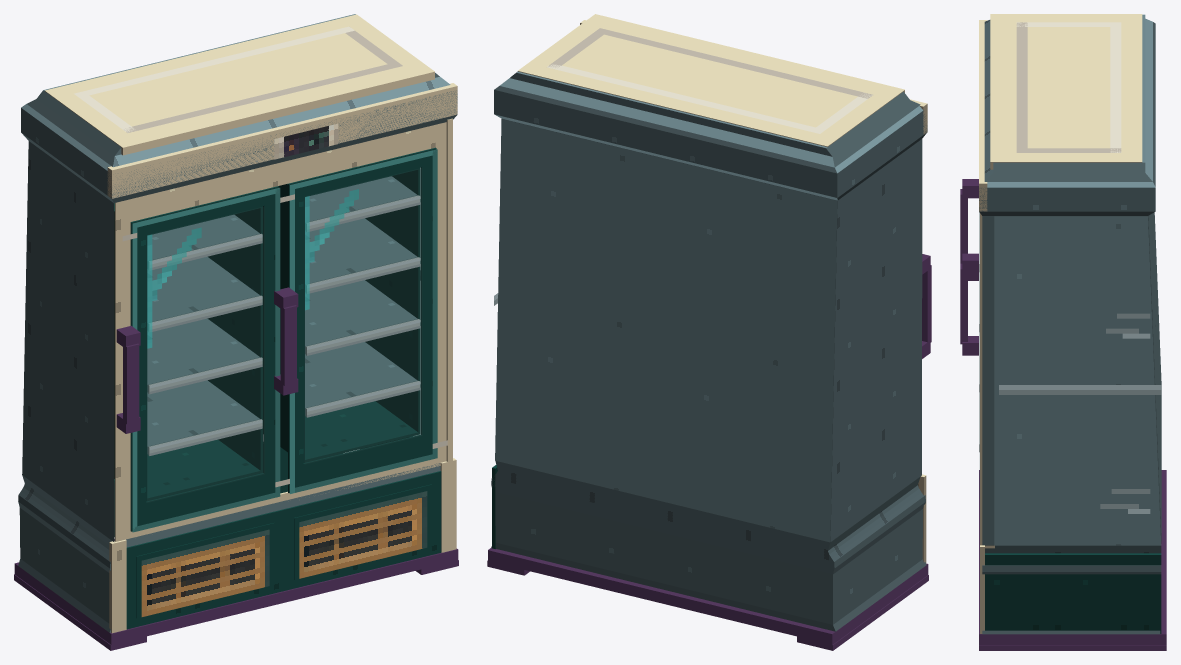
Rendered from vaccine-fridge-voxel-2door.glb.
3 views of the same model, side by side, from view 1: azimuth 30°, elevation 25°; view 2: azimuth 150°, elevation 25°; view 3: azimuth 270°, elevation 25° (orthographic). The views are drawn at different scales.
Parts seen in each view (by area): view 1: source_hull, front_glass_bay1, front_glass_bay0, nano_tile_top_surface, crown_fascia, condenser_front_panel, fixed_grille_bay0, fixed_grille_bay1, cream_frame_top, cavity_right_bay1, cavity_right_bay0, plinth_rail (+53 smaller); view 2: nano_tile_back_panel, source_hull, nano_tile_top_surface, plinth_rail, roof_inset_back_light, roof_inset_front_dark, foot_left, handle_grip_bay0; view 3: nano_tile_side_panel, source_hull, nano_tile_top_surface, side_base_panel_right, plinth_rail, nano_tile_back_panel, roof_inset_front_dark, roof_inset_back_light, crown_fascia, foot_right, cream_corner_right, side_panel_semantic_seam_dark (+8 smaller).
Part boxes in pixels (x1=…): source_hull: x1=18, y1=14, x2=457, y2=632; front_glass_bay1: x1=304, y1=168, x2=422, y2=464; front_glass_bay0: x1=147, y1=206, x2=264, y2=502; nano_tile_top_surface: x1=45, y1=14, x2=434, y2=147; crown_fascia: x1=107, y1=83, x2=457, y2=198; condenser_front_panel: x1=126, y1=471, x2=441, y2=629; fixed_grille_bay0: x1=141, y1=529, x2=269, y2=616; fixed_grille_bay1: x1=299, y1=491, x2=427, y2=578; cream_frame_top: x1=130, y1=125, x2=435, y2=221; cavity_right_bay1: x1=365, y1=168, x2=420, y2=434; cavity_right_bay0: x1=208, y1=207, x2=262, y2=470; plinth_rail: x1=14, y1=539, x2=458, y2=644; nano_tile_back_panel: x1=495, y1=119, x2=837, y2=542; source_hull: x1=491, y1=71, x2=927, y2=631; nano_tile_top_surface: x1=518, y1=14, x2=904, y2=146; plinth_rail: x1=488, y1=547, x2=928, y2=644; roof_inset_back_light: x1=547, y1=64, x2=824, y2=133; roof_inset_front_dark: x1=595, y1=28, x2=872, y2=98; foot_left: x1=797, y1=575, x2=928, y2=650; handle_grip_bay0: x1=922, y1=265, x2=931, y2=342; nano_tile_side_panel: x1=994, y1=216, x2=1161, y2=545; source_hull: x1=979, y1=14, x2=1161, y2=634; nano_tile_top_surface: x1=990, y1=14, x2=1142, y2=161; side_base_panel_right: x1=985, y1=553, x2=1161, y2=633; plinth_rail: x1=979, y1=470, x2=1166, y2=644; nano_tile_back_panel: x1=1148, y1=212, x2=1161, y2=540; roof_inset_front_dark: x1=1016, y1=22, x2=1027, y2=152; roof_inset_back_light: x1=1110, y1=22, x2=1121, y2=152; crown_fascia: x1=979, y1=20, x2=987, y2=211; foot_right: x1=979, y1=645, x2=1166, y2=650; cream_corner_right: x1=980, y1=213, x2=994, y2=548; side_panel_semantic_seam_dark: x1=999, y1=390, x2=1161, y2=394.
Bounding box in the file's own units: 2.21 × 3 × 1.17.
Materials: 26 (13 with a texture image).
